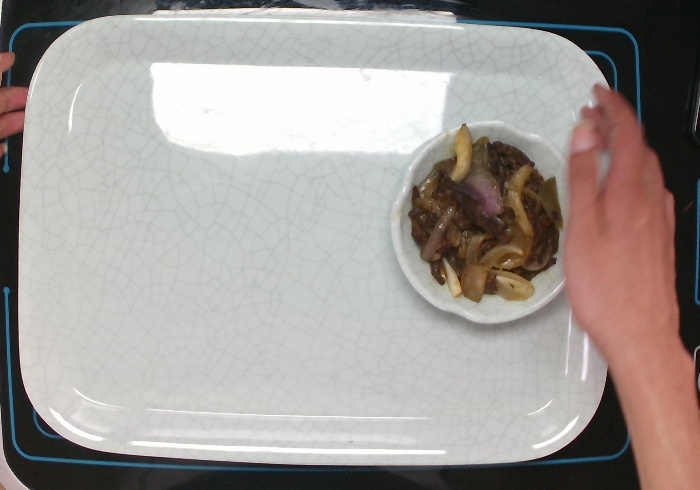JYsf-Ao_Yuan_Wan: (389, 117, 571, 326)
